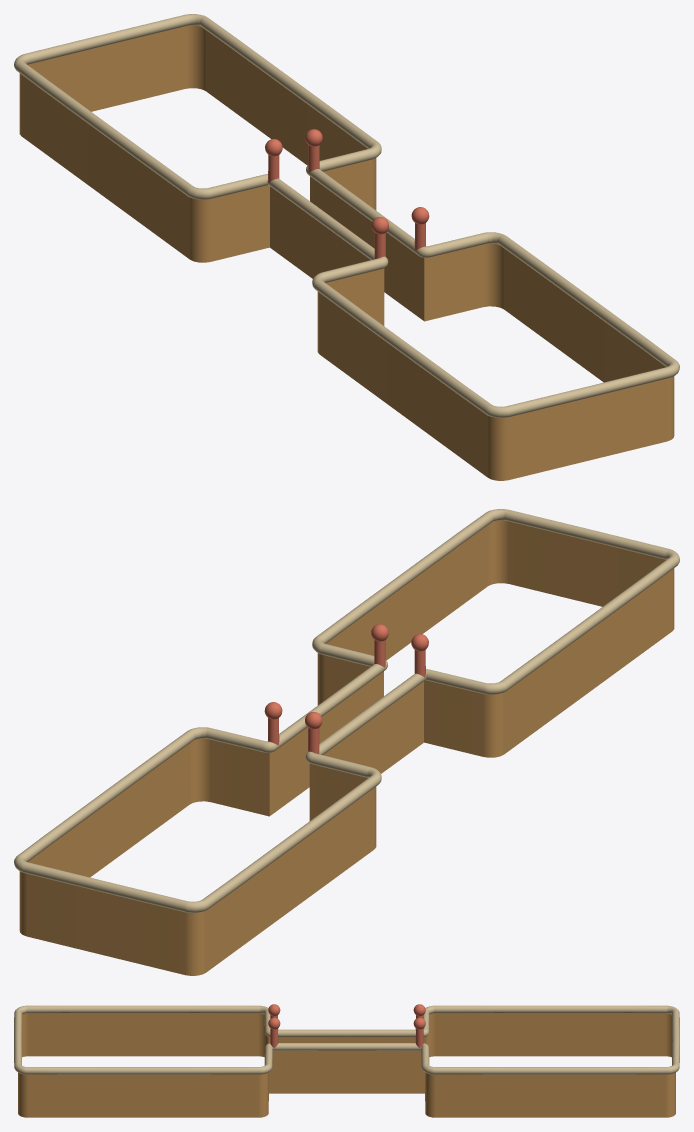
File: Level_Decoration.fbx
3 renders of one model, top to bottom at view 1: azimuth 30°, elevation 25°; view 2: azimuth 150°, elevation 25°; view 3: azimuth 270°, elevation 25°, orthographic. The views are drawn at different scales.
Visible parts, largest first — view 1: Level; view 2: Level; view 3: Level.
Boxes of the visible parts, box(x1,y1,x2,y2) form: Level: box(14, 14, 679, 480); Level: box(14, 509, 679, 975); Level: box(14, 1004, 679, 1117).
Bounding box in the file's own units: 583 × 317 × 2532.
